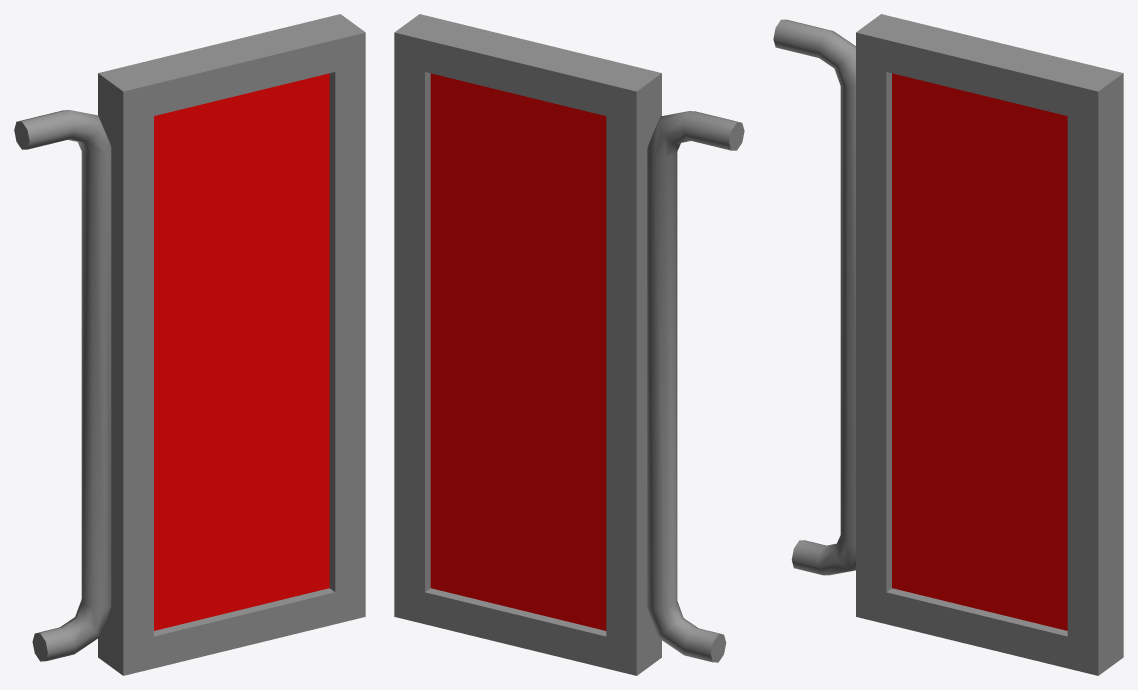
The model's file is m_prop_Billboard_A.FBX.
The picture shows the model from 3 angles, left to right: view 1: azimuth 30°, elevation 25°; view 2: azimuth 150°, elevation 25°; view 3: azimuth 330°, elevation 25°; orthographic projection.
Parts seen in each view (by area): view 1: M_Block_Billboard_A; view 2: M_Block_Billboard_A; view 3: M_Block_Billboard_A.
Boxes of the visible parts, left/top/right/bottom form: M_Block_Billboard_A: left=14, top=14, right=365, bottom=675; M_Block_Billboard_A: left=394, top=14, right=744, bottom=675; M_Block_Billboard_A: left=773, top=14, right=1123, bottom=675.
Size of the model in its own units: 461 by 61.14 by 780.
